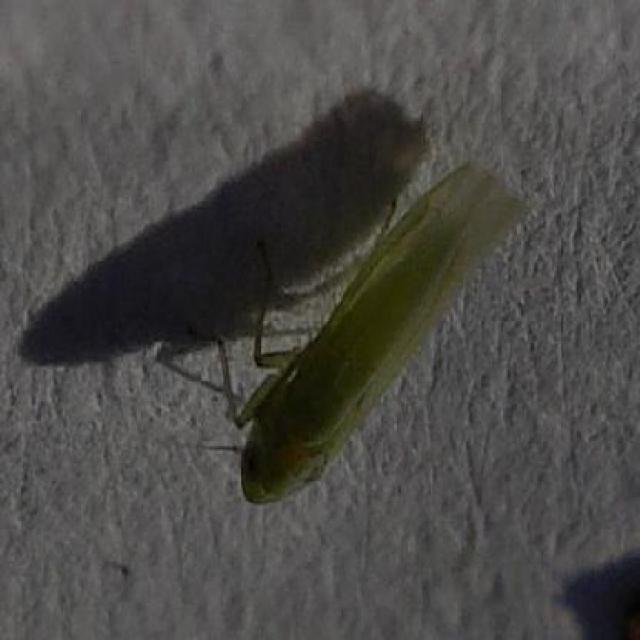green-leafhopper: (231, 157, 543, 512)
